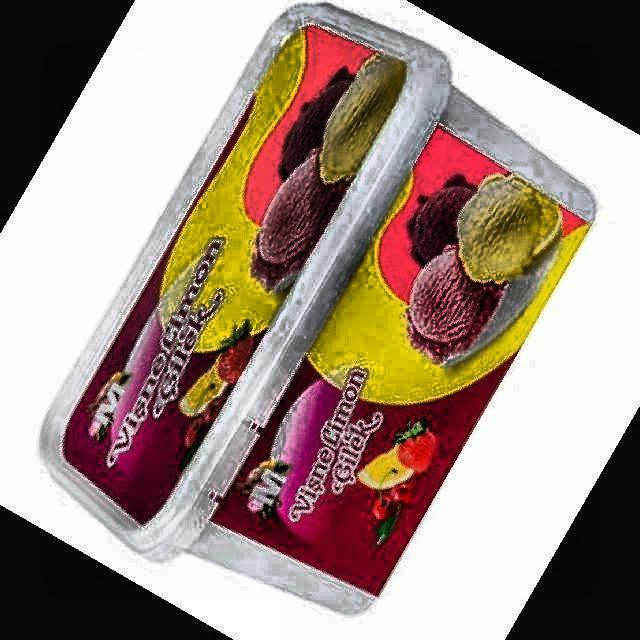plastic: (42, 5, 595, 612)
